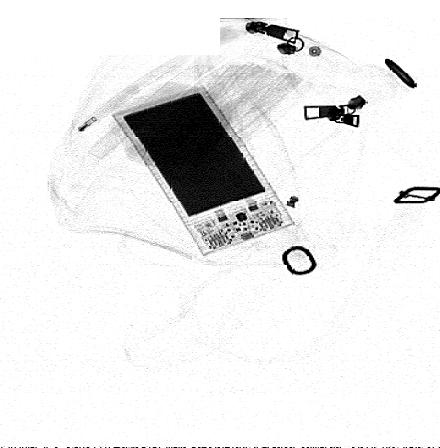Powerbank: (111, 85, 296, 258)
